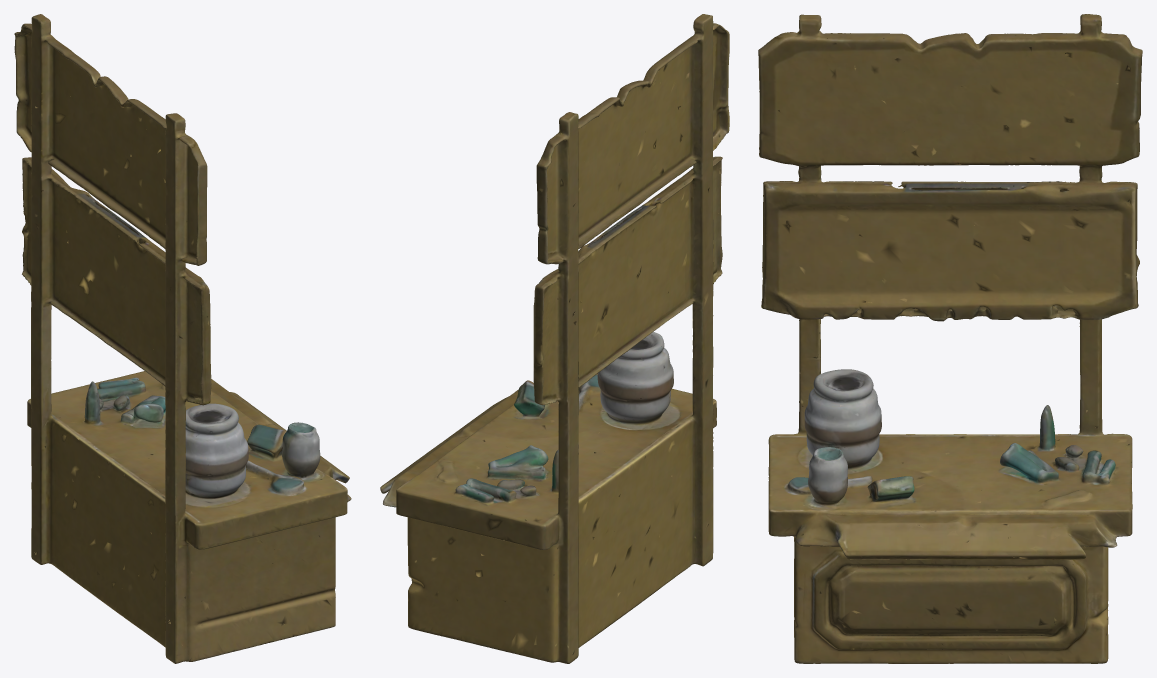
The model's file is wood_sign_discover.glb.
The picture shows the model from 3 angles, left to right: view 1: azimuth 30°, elevation 25°; view 2: azimuth 150°, elevation 25°; view 3: azimuth 270°, elevation 25°; orthographic projection. The views are drawn at different scales.
Bounding box in the file's own units: 0.7648 × 2.01 × 1.23.
Materials: 1 (1 with a texture image).
